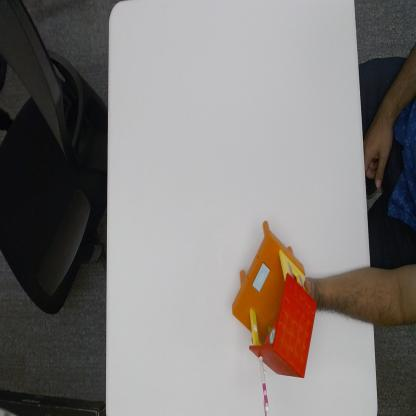Arm: (319, 266, 374, 321)
Hand: (306, 266, 317, 314)
House: (233, 214, 316, 412)
